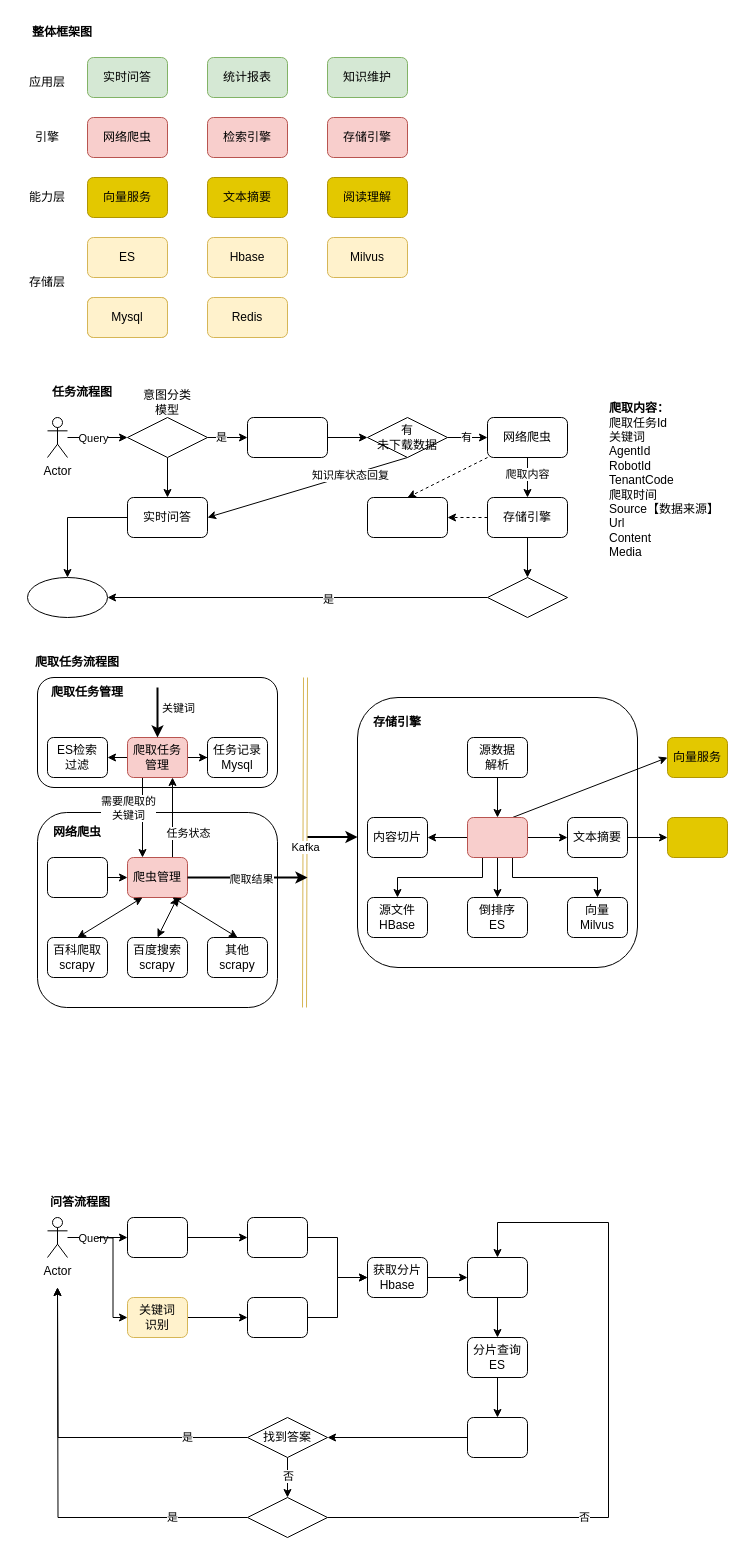
Image size: 745x1555. Some labels were removed from this diagram. The shapes that lost their labels are listed below. From the top down, each one's centre as x and y in pixels, then its label:
At (167,437): "是否 爬取命令".
At (287,437): "爬取任务 管理".
At (407,517): "知识统计".
At (67,597): "结束".
At (527,597): "爬取任务 是否完成".
At (497,837): "存储管理".
At (697,837): "摘要服务".
At (77,877): "源管理".
At (157,1237): "向量化".
At (277,1237): "向量粗筛 Milvus".
At (497,1277): "粗筛结果融合".
At (277,1317): "文本检索 ES".
At (497,1437): "阅读理解 LLM".
At (287,1517): "重试完毕".
